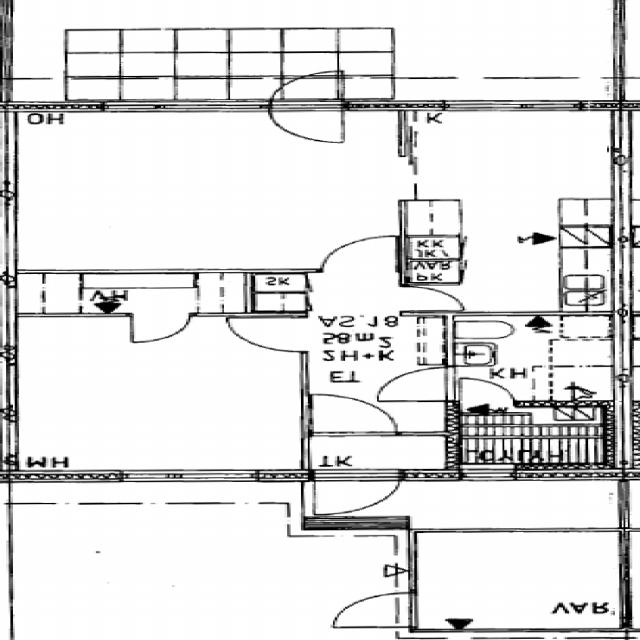door: (315, 470, 399, 520), (267, 66, 344, 111), (267, 100, 344, 145), (313, 395, 396, 436), (330, 593, 417, 628), (372, 367, 454, 400), (322, 237, 395, 273), (228, 319, 310, 351), (130, 314, 188, 342), (399, 286, 462, 310), (461, 378, 513, 407)
